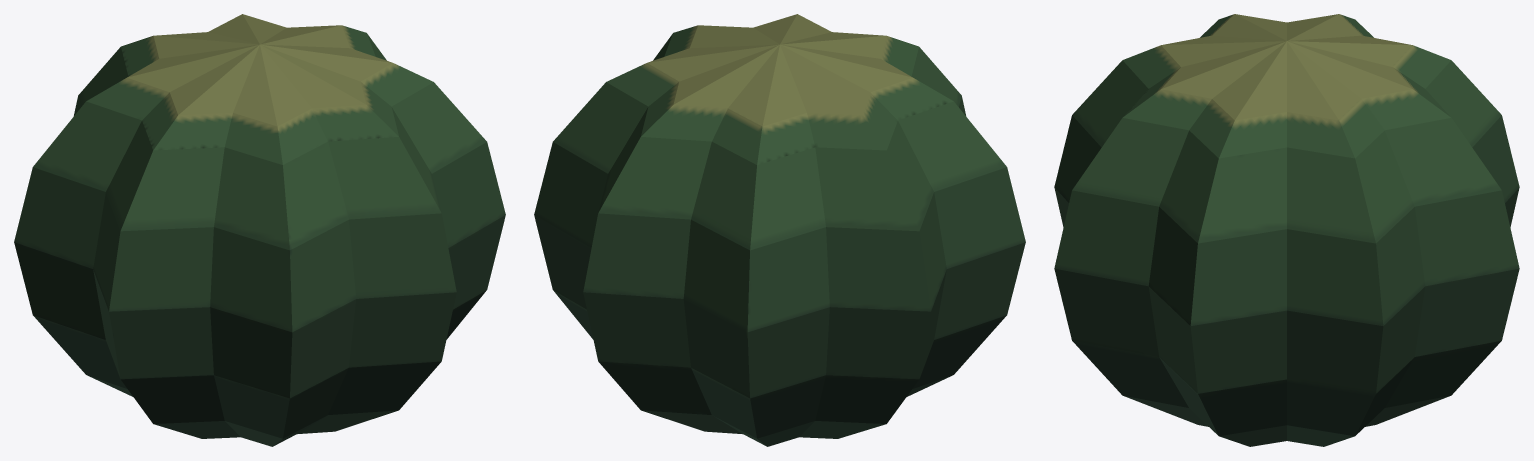
File: cactus_02.fbx
The picture shows the model from 3 angles, left to right: view 1: azimuth 30°, elevation 25°; view 2: azimuth 150°, elevation 25°; view 3: azimuth 270°, elevation 25°; orthographic projection.
Parts seen in each view (by area): view 1: Sphere.010; view 2: Sphere.010; view 3: Sphere.010.
Boxes of the visible parts, left/top/right/bottom form: Sphere.010: left=14, top=14, right=505, bottom=446; Sphere.010: left=534, top=14, right=1025, bottom=446; Sphere.010: left=1054, top=14, right=1519, bottom=446.
Size of the model in its own units: 185 by 168 by 185.
